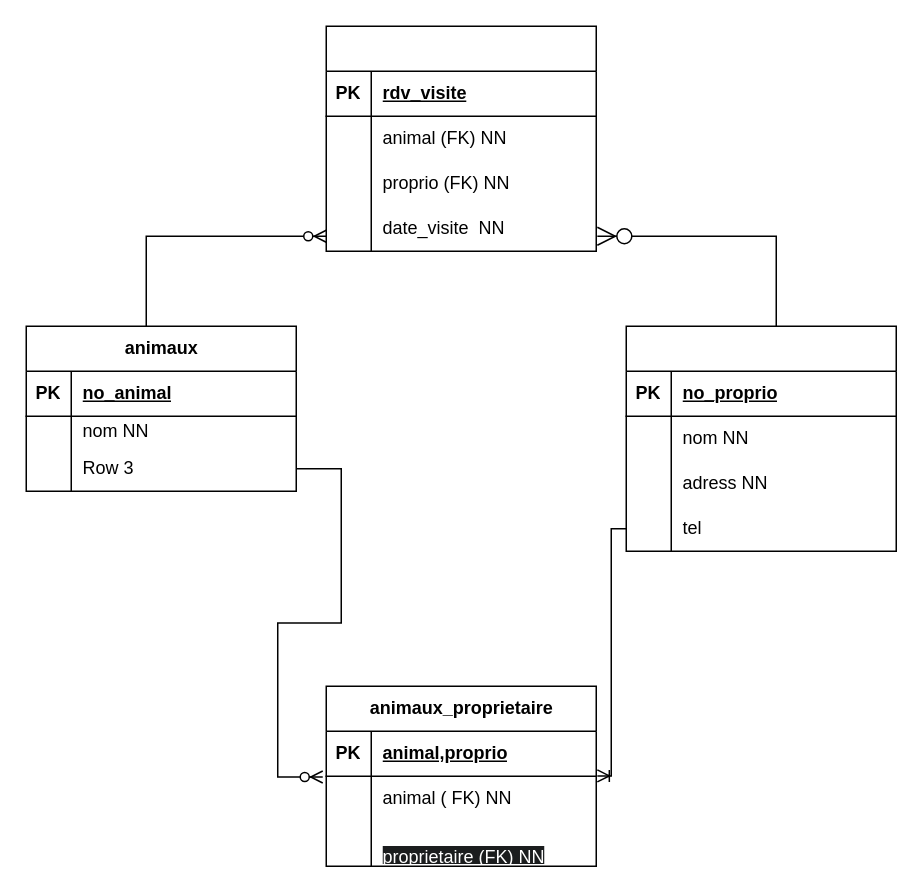
Image size: 923x893. Some labels were removed from this diagram. The box of each missing label's shape, as (x1, y1, x2, y2) in pixels:
proprietaire: (625, 325, 896, 551)
visites: (325, 25, 596, 251)
